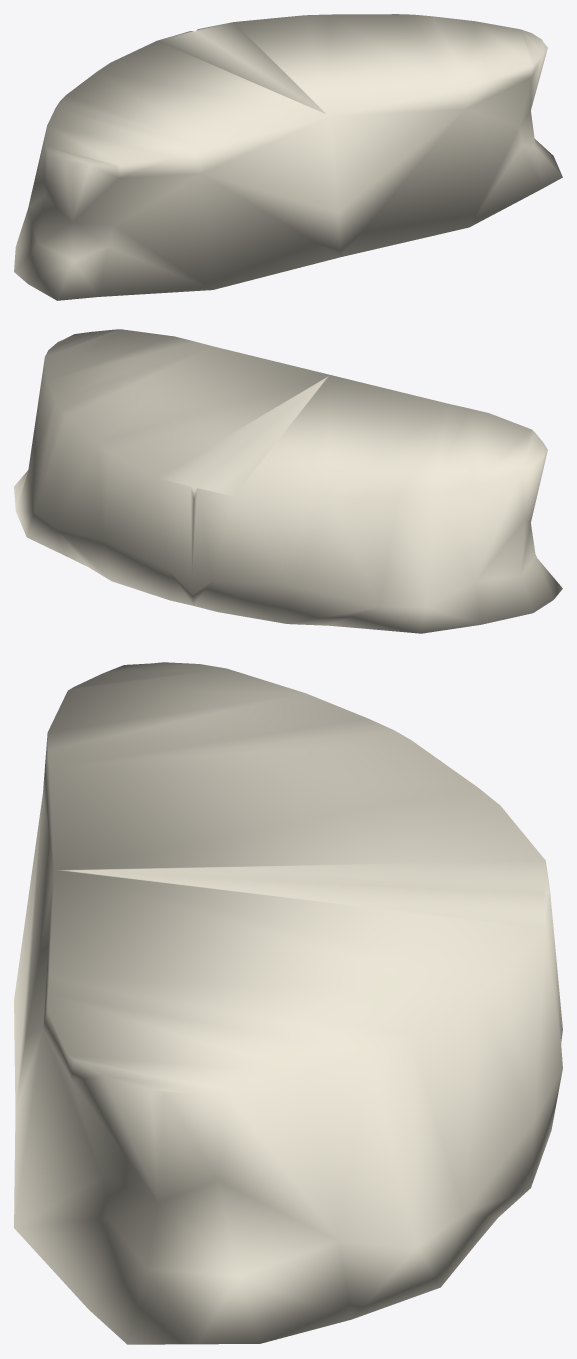
3 views of the same model, one above another, from view 1: azimuth 30°, elevation 25°; view 2: azimuth 150°, elevation 25°; view 3: azimuth 270°, elevation 25° (orthographic). The views are drawn at different scales.
Visible parts, largest first — view 1: ZA_303b7d7ec33a86d7; view 2: ZA_303b7d7ec33a86d7; view 3: ZA_303b7d7ec33a86d7.
Boxes of the visible parts, left/top/right/bottom form: ZA_303b7d7ec33a86d7: left=14, top=14, right=562, bottom=300; ZA_303b7d7ec33a86d7: left=14, top=329, right=562, bottom=633; ZA_303b7d7ec33a86d7: left=14, top=662, right=562, bottom=1344.
Size of the model in its own units: 0.0215 by 0.00536 by 0.0107.
